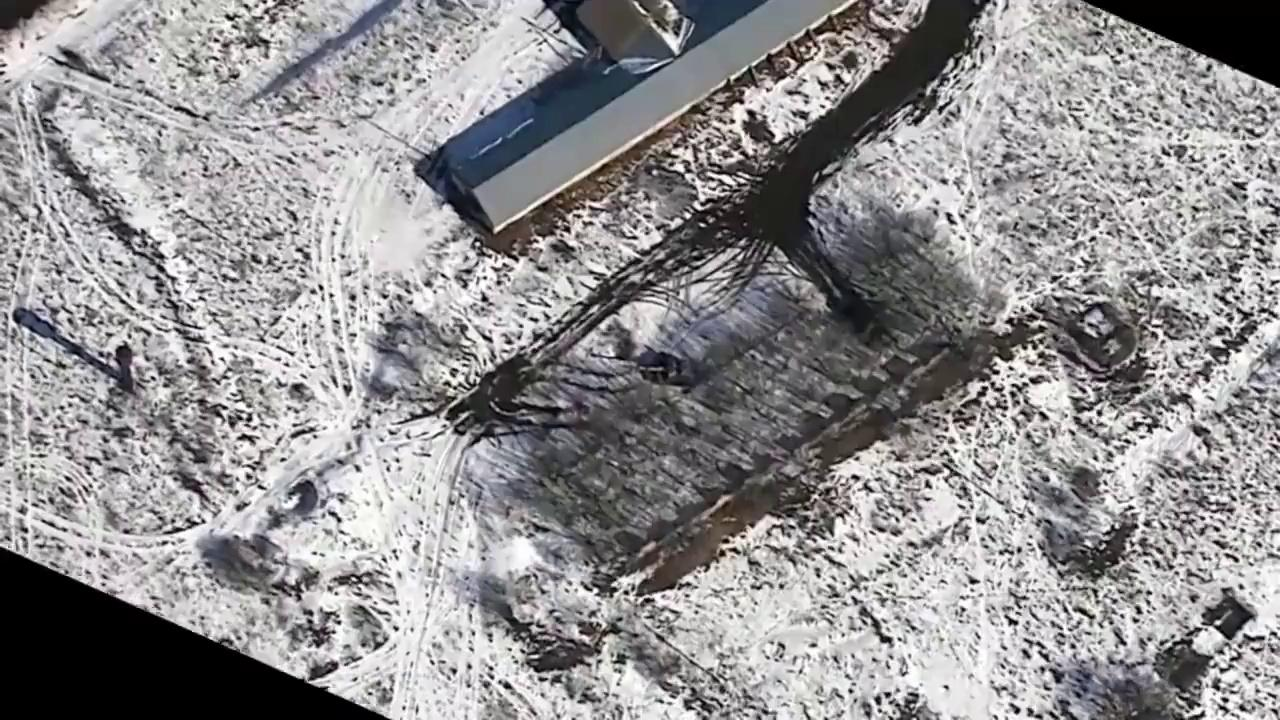vehicle: (812, 255, 869, 316), (632, 355, 702, 392)
